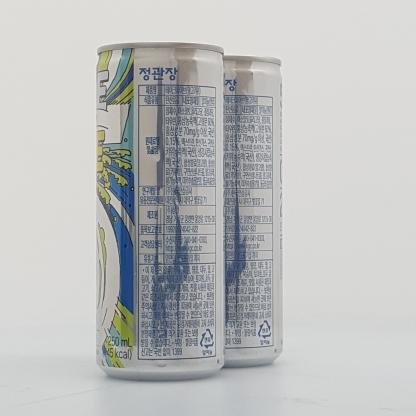---------: (96, 41, 224, 380), (222, 54, 283, 367)
